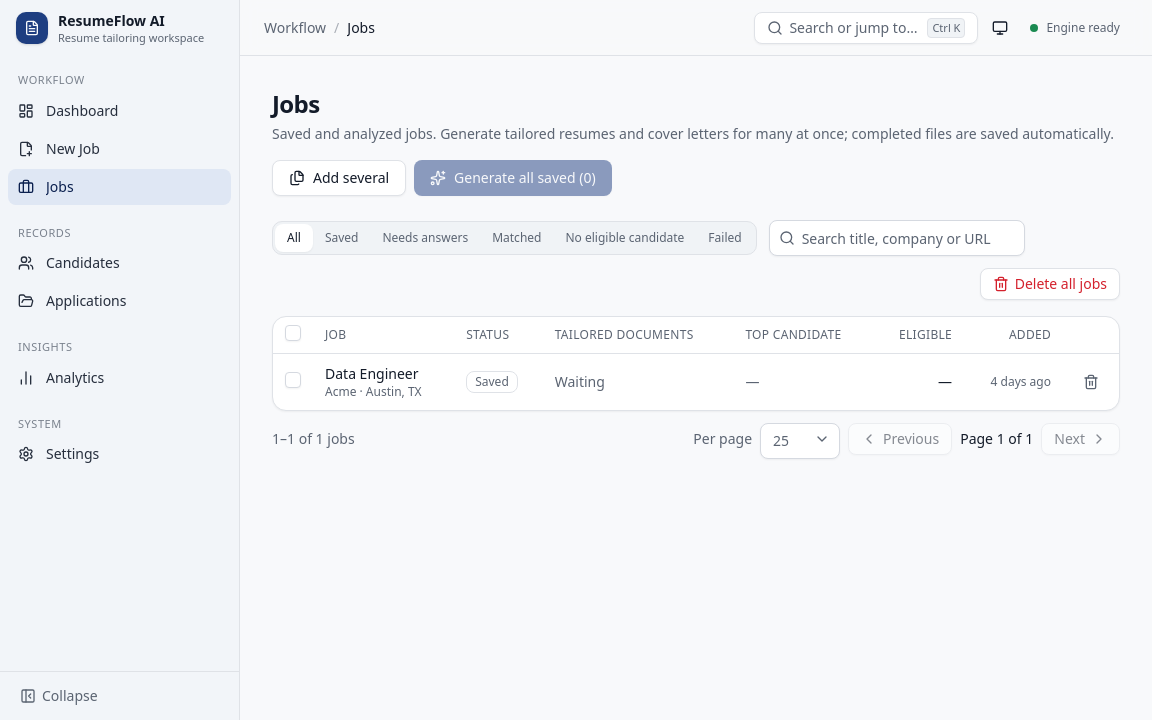
Test case: deleting jobs from the workspace › keeps the job visible when the backend rejects deletion
The width and height of the screenshot is (1152, 720).
Click the button named "Delete Data Engineer" at (1091, 382), box [1075,366,1107,398]
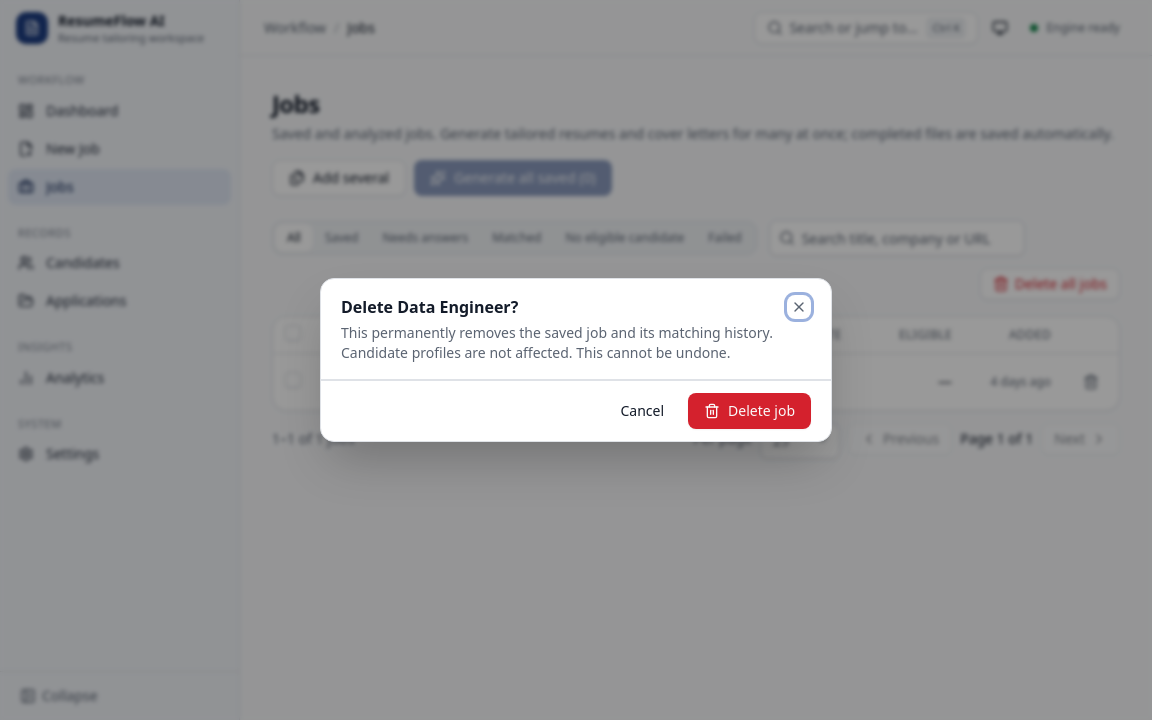
Click the button "Delete job" at (750, 411), box [688,393,811,429]
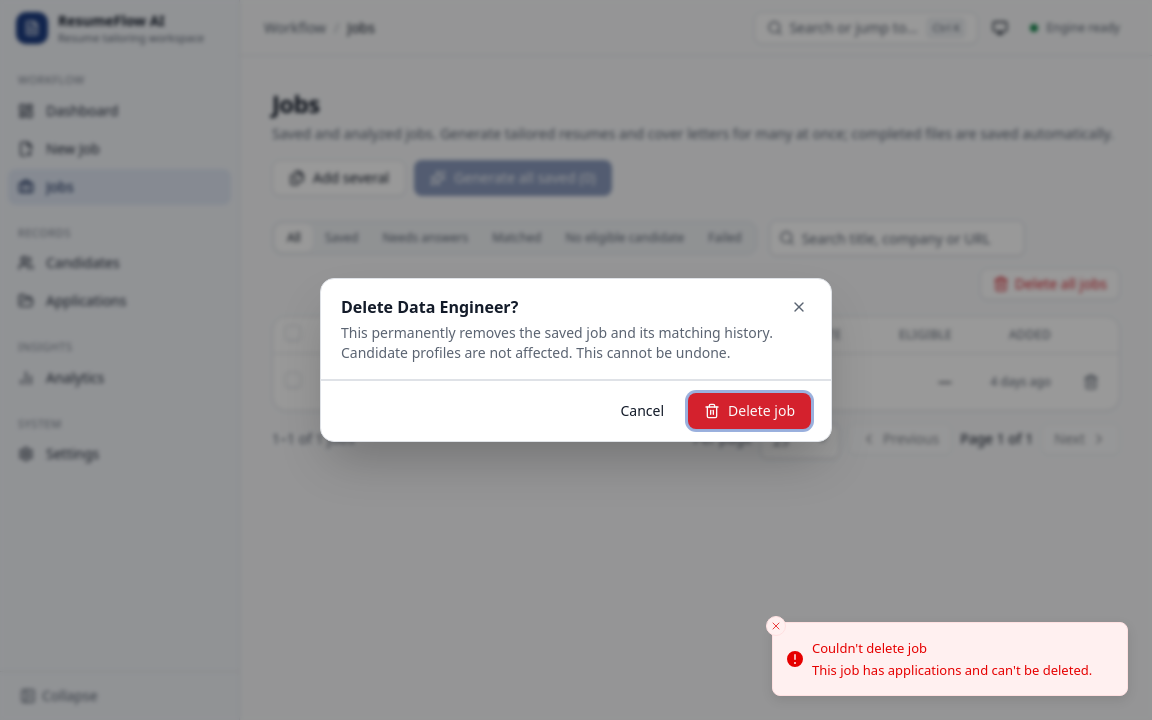
Expected: the dialog "Delete Data Engineer?" is shown, [320,278,832,442]
Expected: the text "Couldn't delete job" is shown, [812,639,927,657]
Expected: the text "This job has applications and can't be deleted." is shown, [812,661,1092,679]
